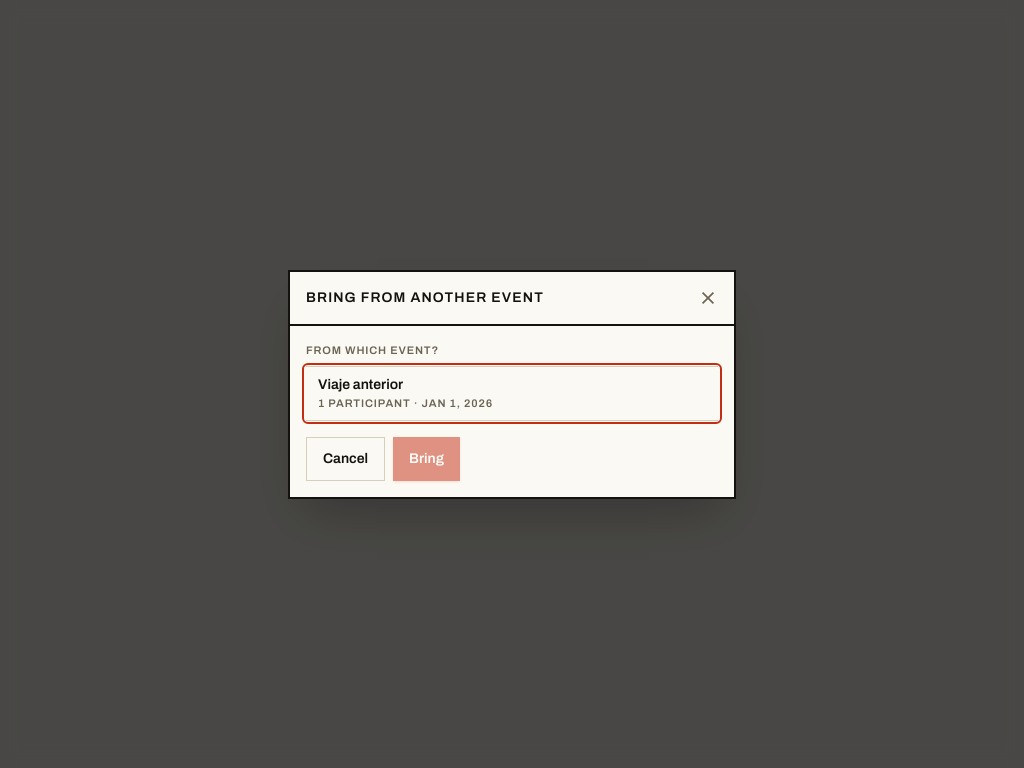
Test: CloneFromEventModal › shows the blocks only after a source is picked
Step 1. Click the text "Viaje anterior" → (361,385), box [318, 375, 403, 395]
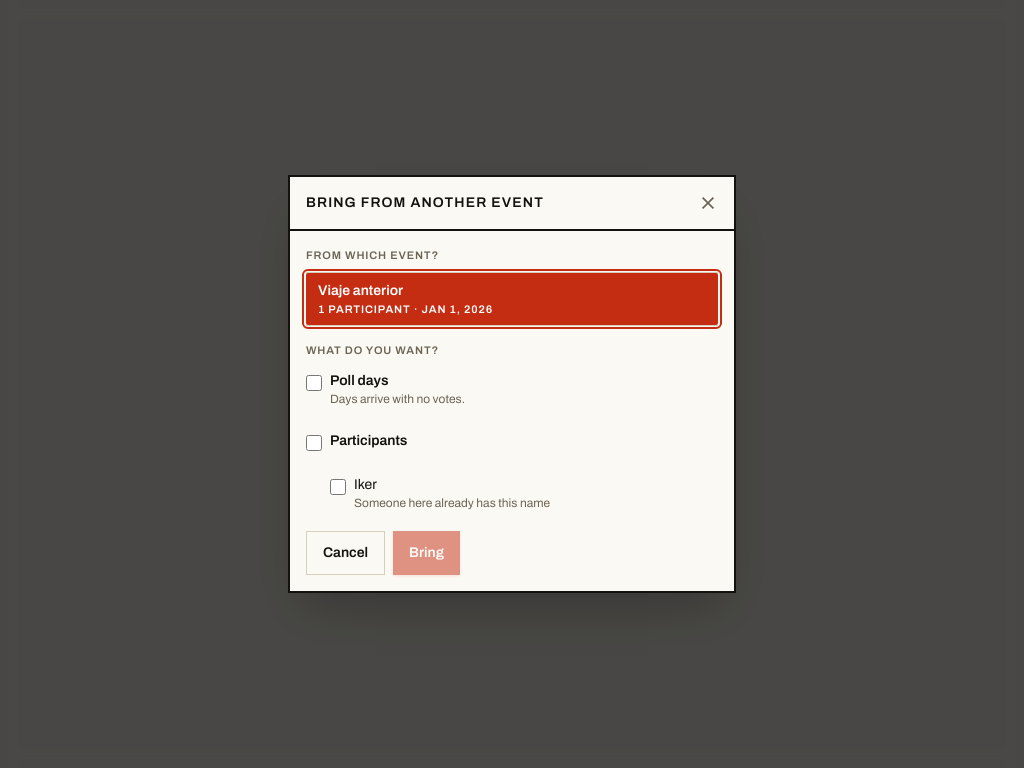
Expected: the checkbox labelled "Poll days Days arrive with no votes." is shown, [306, 375, 322, 391]
